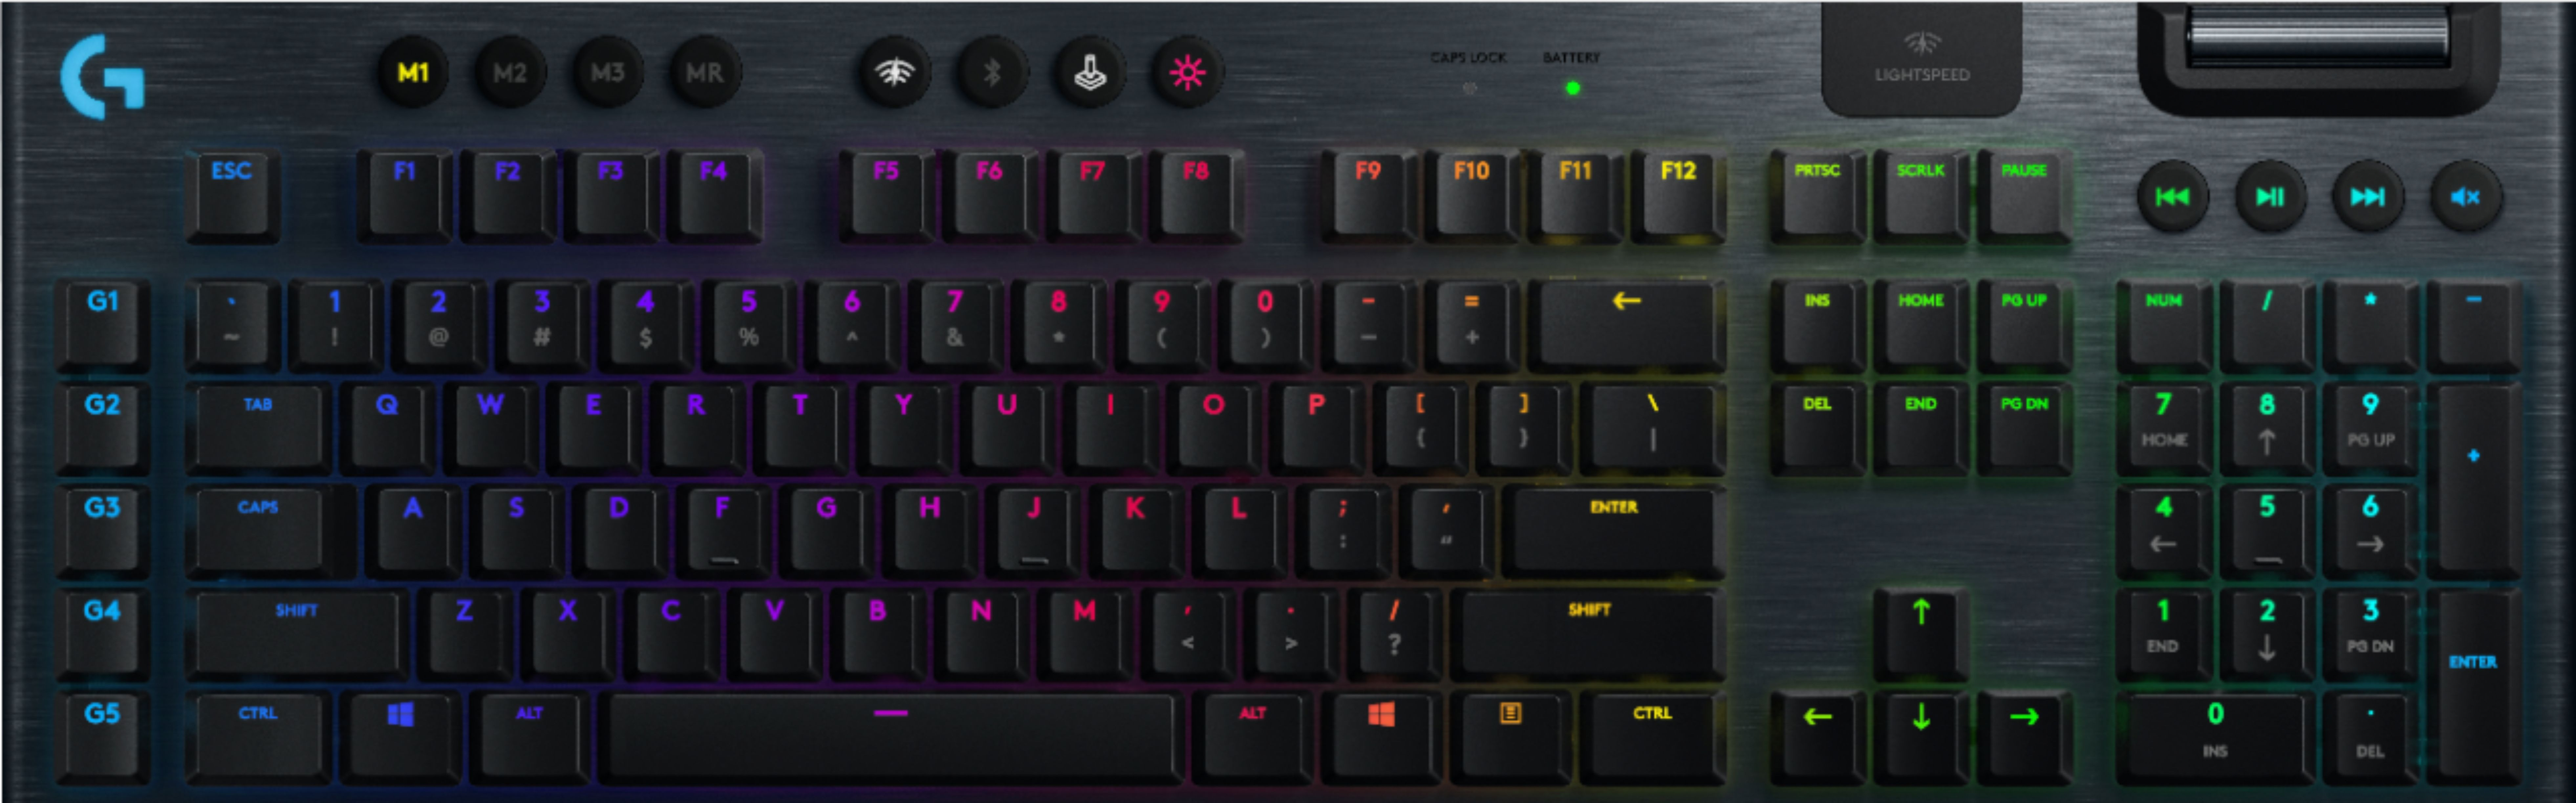keyboard: (21, 8, 2576, 803)
